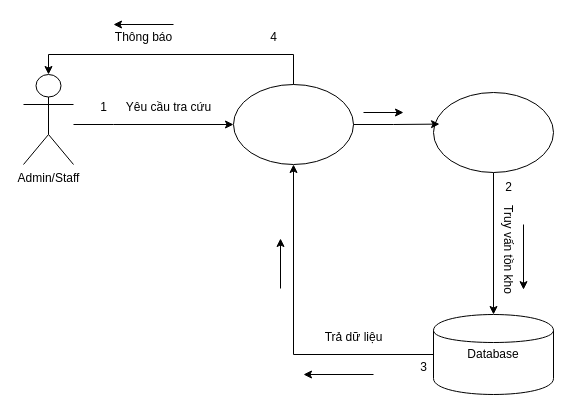
Some shapes in this 571 by 412 pixel diagram are drawn without their labels. Here are the shapes that lost their labels. From the top down, the centre of each, then its label:
point 293,124: System
point 493,132: Inventory System
